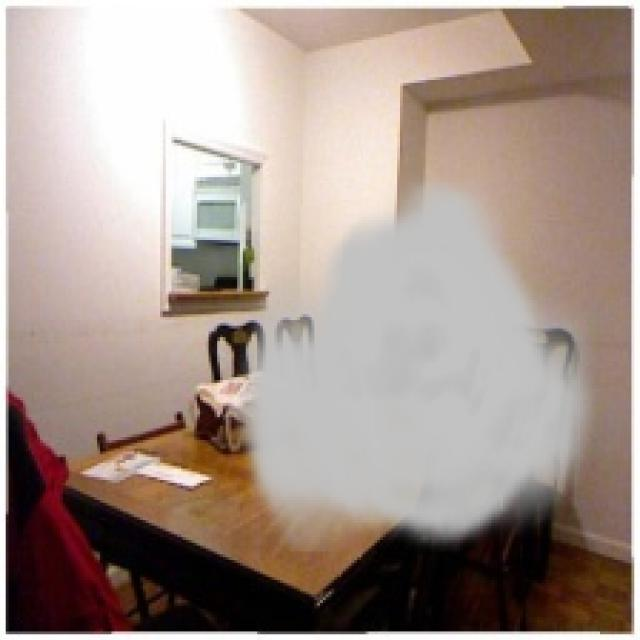smoke: (234, 172, 606, 552)
